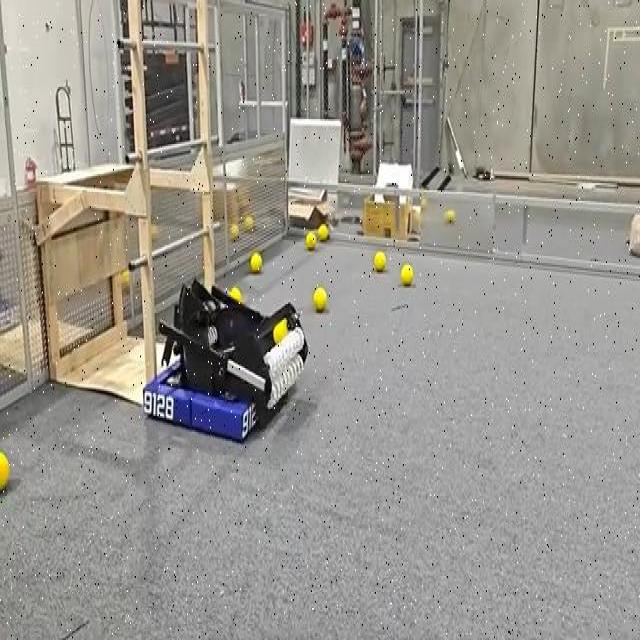Fuel: (0, 451, 10, 491), (273, 318, 288, 343), (274, 318, 288, 344), (0, 452, 9, 491), (313, 286, 327, 311), (401, 263, 414, 286), (400, 263, 413, 285), (373, 251, 386, 272), (305, 231, 317, 251), (228, 286, 243, 302), (250, 252, 262, 272), (317, 224, 329, 240), (120, 270, 130, 288), (244, 215, 255, 231), (230, 224, 239, 241), (229, 222, 238, 238), (445, 208, 454, 224), (444, 208, 454, 222), (121, 270, 129, 286)
